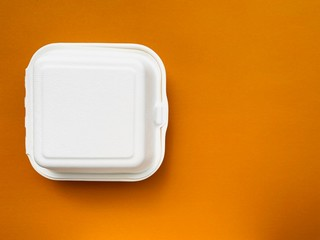styrofoam: (24, 42, 171, 184)
